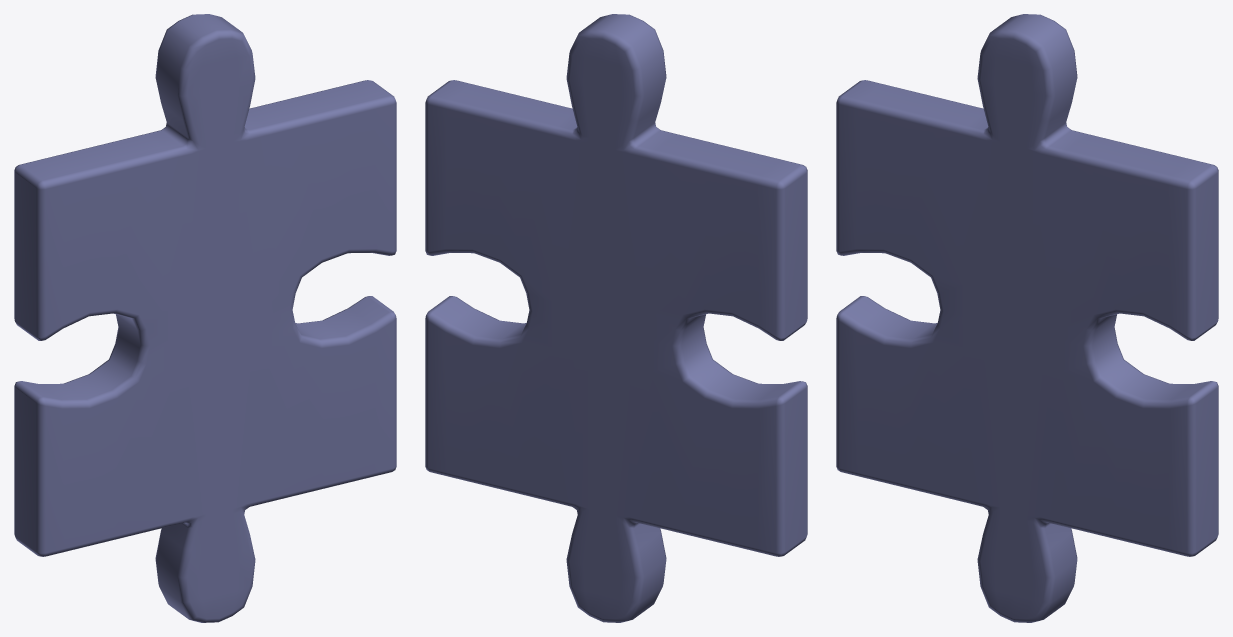
File: Puzzle_3.glb
The picture shows the model from 3 angles, left to right: view 1: azimuth 30°, elevation 25°; view 2: azimuth 150°, elevation 25°; view 3: azimuth 330°, elevation 25°; orthographic projection.
Parts seen in each view (by area): view 1: Puzzle_3; view 2: Puzzle_3; view 3: Puzzle_3.
Boxes of the visible parts, left/top/right/bottom form: Puzzle_3: left=14, top=14, right=396, bottom=622; Puzzle_3: left=425, top=14, right=807, bottom=622; Puzzle_3: left=836, top=14, right=1218, bottom=622.
Size of the model in its own units: 0.5723 by 0.9005 by 0.0779.
Materials: 1 (1 with a texture image).
